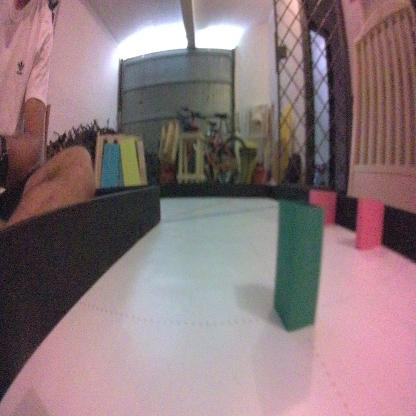green: (273, 195, 325, 340)
magenta: (353, 194, 386, 256), (311, 188, 338, 220)
